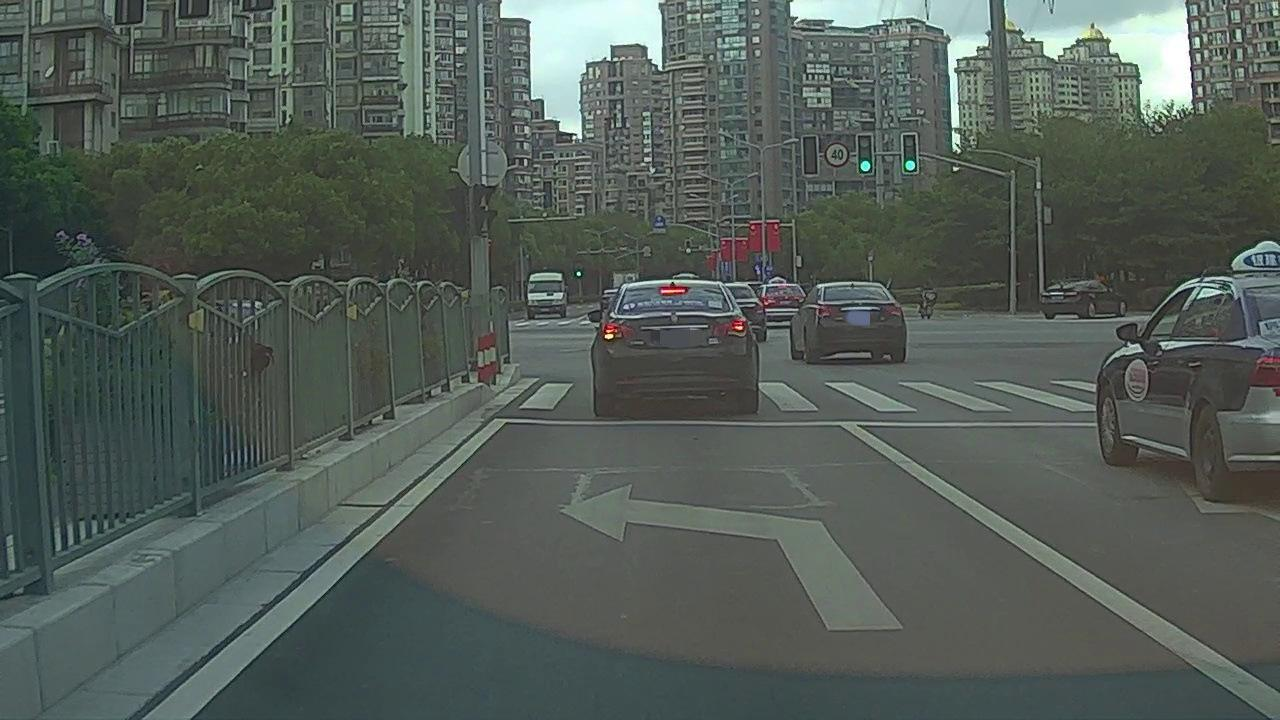traffic_light: (901, 133, 917, 176), (857, 133, 873, 175), (802, 137, 818, 176)
